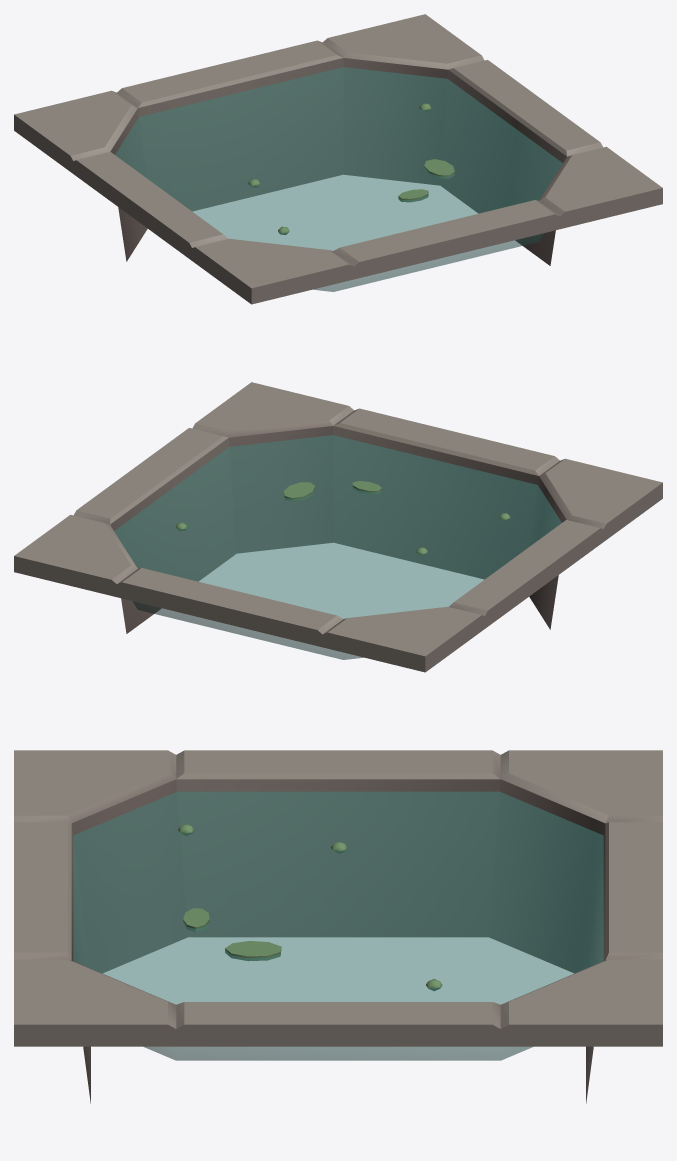
Rendered from floor_water_pool_B.glb.
3 views of the same model, one above another, from view 1: azimuth 30°, elevation 25°; view 2: azimuth 150°, elevation 25°; view 3: azimuth 270°, elevation 25° (orthographic). The views are drawn at different scales.
Parts seen in each view (by area): view 1: Item; view 2: Item; view 3: Item.
Part boxes in pixels (box(x1,y1,x2,y2)): Item: box(14, 14, 662, 304); Item: box(14, 382, 662, 672); Item: box(14, 750, 662, 1103).
Bounding box in the file's own units: 4 × 1.05 × 4.
3 materials, 3 textured.
